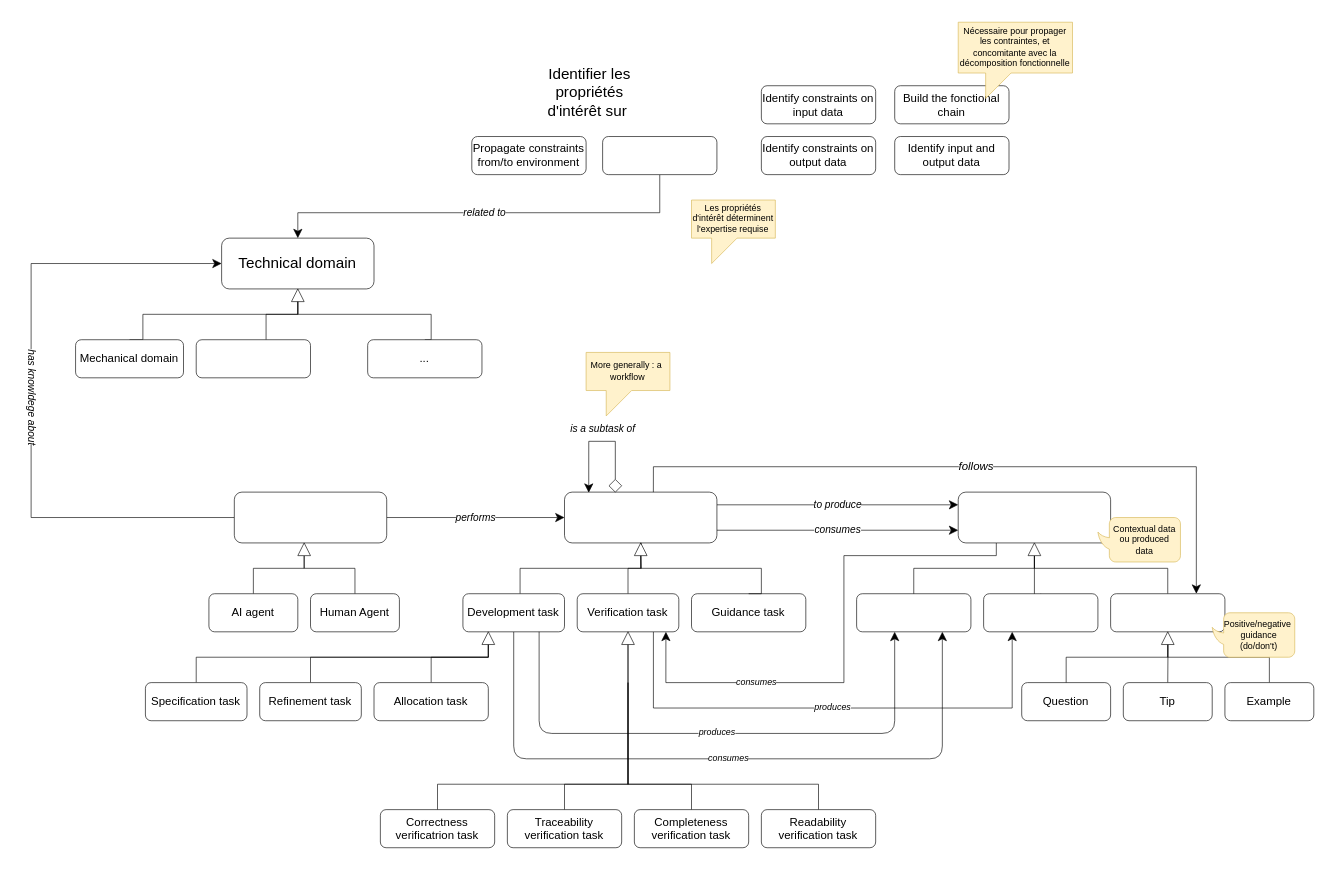
The diagram is 1336 pixels wide and 870 high, and some of its shapes have lost their labels. Here are the shapes that lost their labels. From the top down, the centre of each, then its label:
point 659,155: Identify properties of interest
point 252,358: Optical domain
point 309,517: AGENT
point 640,517: Task
point 1033,517: Data
point 913,612: Development data
point 1040,612: Verification data
point 1167,612: Guidance data
